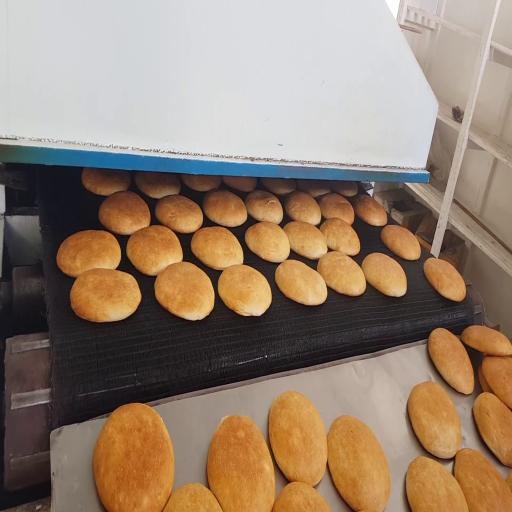bread: (94, 404, 174, 511), (207, 416, 275, 511), (328, 416, 390, 511), (269, 391, 327, 486), (408, 382, 461, 458), (70, 269, 141, 322), (454, 449, 511, 511), (155, 262, 214, 320), (406, 457, 468, 511), (428, 328, 474, 394), (57, 230, 121, 277), (473, 393, 511, 466), (127, 225, 182, 275), (218, 265, 271, 316), (275, 260, 327, 305), (99, 191, 150, 235), (191, 227, 243, 269), (317, 252, 366, 296), (362, 253, 407, 297), (424, 257, 466, 301), (245, 222, 290, 263), (156, 195, 203, 233), (203, 189, 247, 227), (273, 482, 330, 511), (284, 221, 327, 259), (164, 483, 222, 511), (482, 356, 511, 408), (461, 326, 511, 356), (320, 218, 360, 255), (381, 225, 420, 260), (82, 168, 130, 196), (245, 191, 283, 224), (135, 172, 180, 199), (285, 192, 321, 225), (319, 193, 354, 225), (354, 195, 387, 226), (182, 174, 221, 191), (261, 178, 295, 195), (297, 180, 330, 197), (222, 176, 257, 192), (478, 365, 492, 393), (331, 182, 357, 197), (506, 471, 511, 491)
